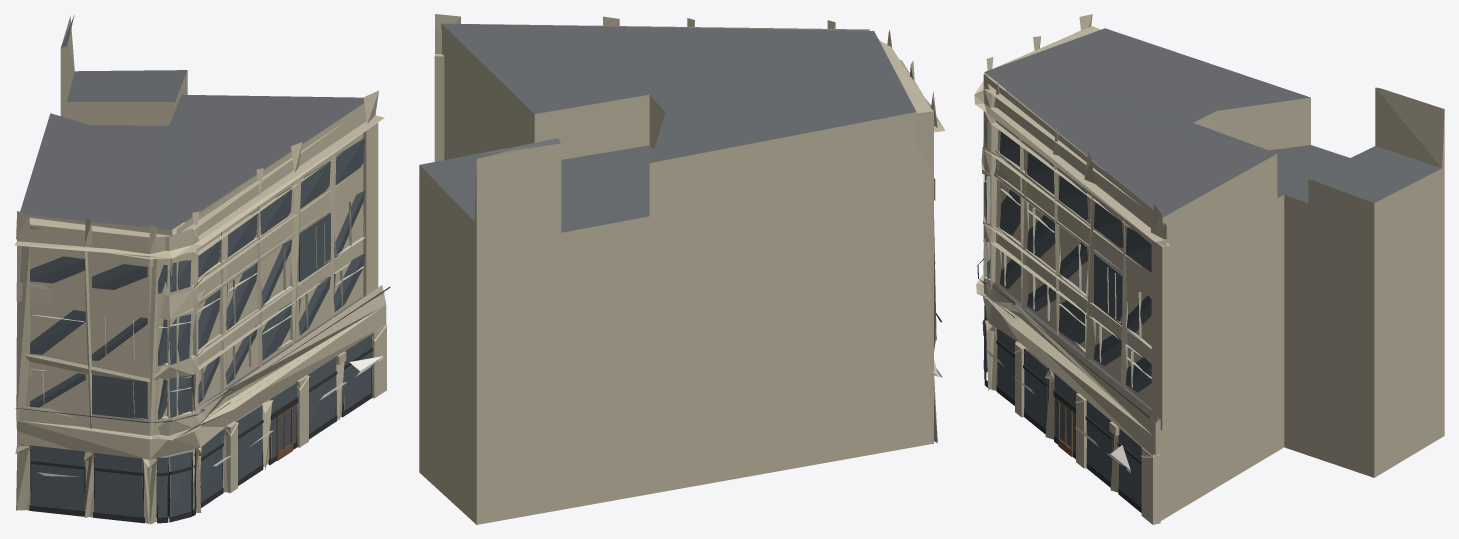
Rendered from broekmans-koningsplein.lod1.glb.
3 renders of one model, left to right at view 1: azimuth 30°, elevation 25°; view 2: azimuth 150°, elevation 25°; view 3: azimuth 270°, elevation 25°, orthographic. The views are drawn at different scales.
Visible parts, largest first — view 1: broekmans-koningsplein; view 2: broekmans-koningsplein; view 3: broekmans-koningsplein.
Boxes of the visible parts, box(x1,y1,x2,y2) form: broekmans-koningsplein: box(15, 15, 390, 524); broekmans-koningsplein: box(419, 14, 945, 524); broekmans-koningsplein: box(974, 14, 1444, 524).
Bounding box in the file's own units: 27.22 × 20.26 × 26.21.
